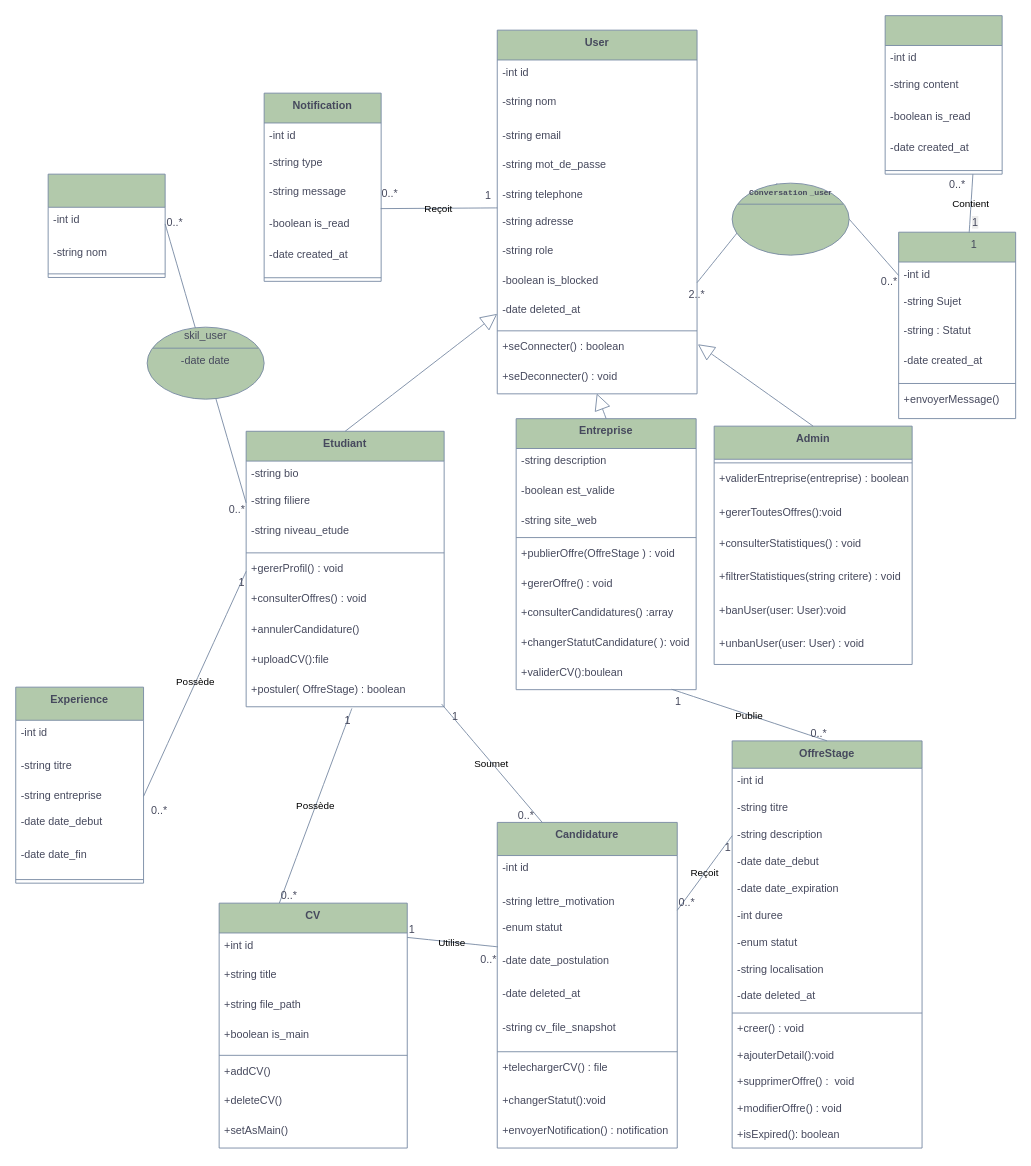
This 1031x1166 diagram has some shape labels left out. The box of each missing label's shape, as (x1, y1, x2, y2) in pixels:
-string role -date last_read_at: (731, 182, 849, 255)
Conversation: (898, 231, 1016, 419)
Message: (884, 15, 1002, 174)
Skill: (47, 173, 165, 277)
